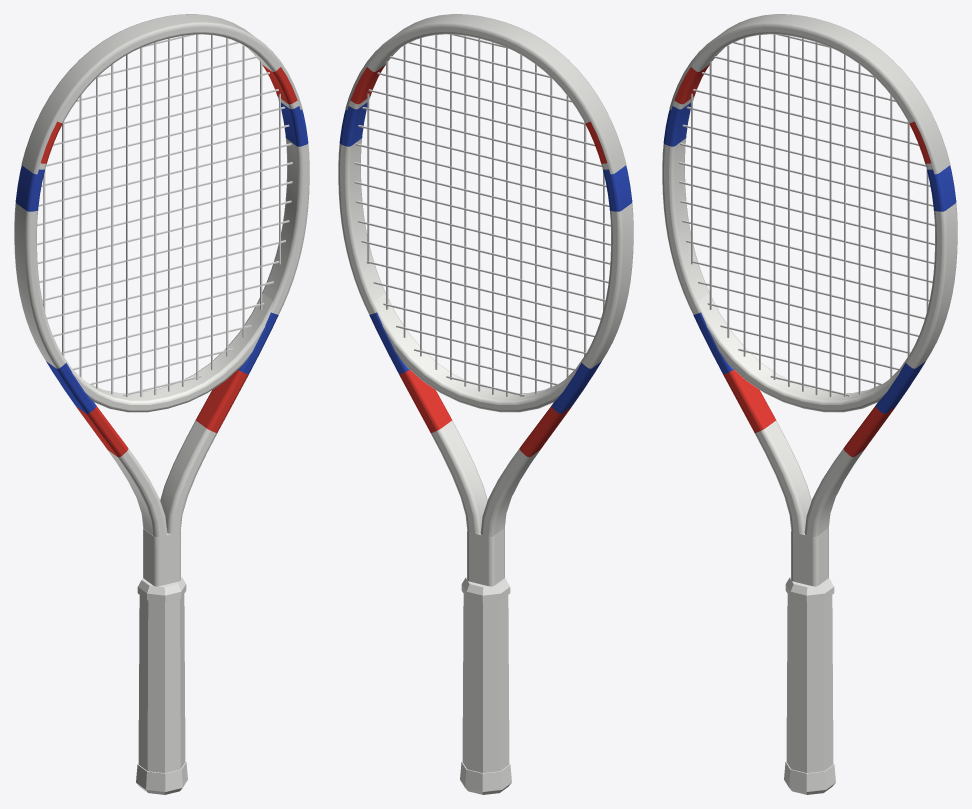
File: tecnifibre-tfight-270-2025.glb
3 views of the same model, side by side, from view 1: azimuth 30°, elevation 25°; view 2: azimuth 150°, elevation 25°; view 3: azimuth 330°, elevation 25° (orthographic).
Parts seen in each view (by area): view 1: frame, strings_mains, strings_crosses, grip, bumper, butt_cap, collar; view 2: frame, strings_mains, strings_crosses, grip, bumper, butt_cap, collar; view 3: frame, strings_mains, strings_crosses, grip, bumper, butt_cap, collar.
Boxes of the visible parts, x1,y1,x2,y2 form: frame: (14,27,309,586); strings_mains: (43,34,280,396); strings_crosses: (37,34,292,396); grip: (138,594,185,772); bumper: (21,14,302,174); butt_cap: (136,761,187,794); collar: (137,577,186,602); frame: (338,27,633,586); strings_mains: (367,34,604,396); strings_crosses: (354,34,610,396); grip: (462,594,509,772); bumper: (345,14,626,174); butt_cap: (460,761,511,794); collar: (461,577,510,602); frame: (662,27,957,586); strings_mains: (691,34,928,396); strings_crosses: (679,34,934,396); grip: (786,594,833,772); bumper: (669,14,950,174); butt_cap: (784,761,835,794); collar: (785,577,834,602).
Size of the model in its own units: 0.2677 by 0.6861 by 0.0396.
